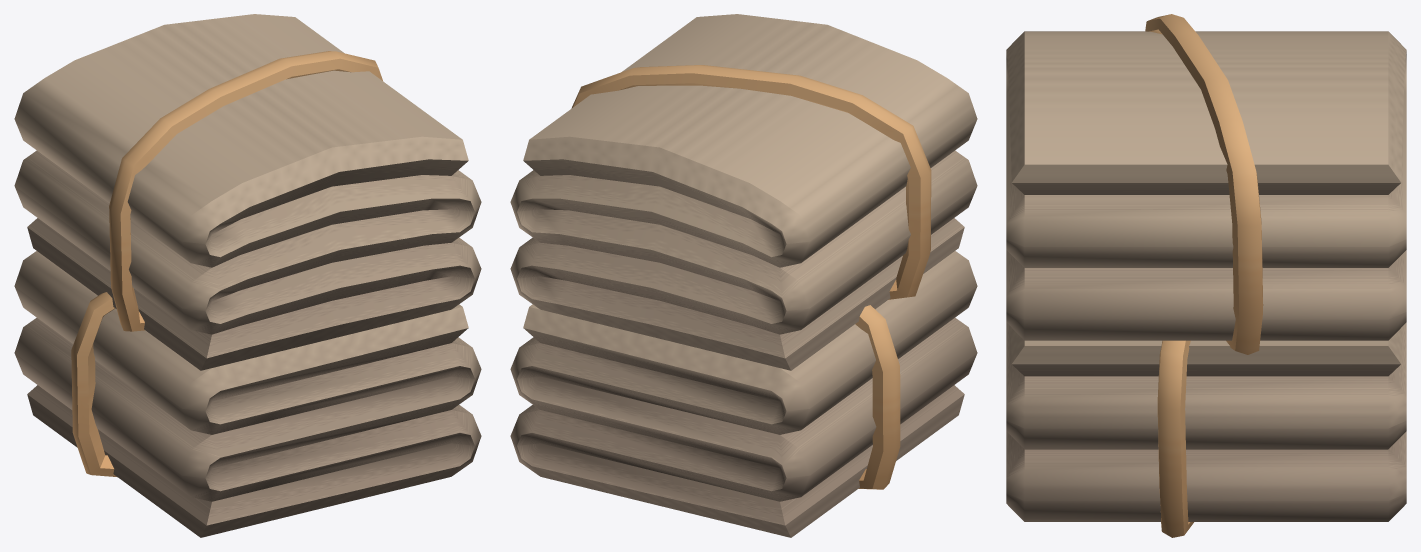
File: Textiles_B.gltf
3 renders of one model, left to right at view 1: azimuth 30°, elevation 25°; view 2: azimuth 150°, elevation 25°; view 3: azimuth 270°, elevation 25°, orthographic. The views are drawn at different scales.
Parts seen in each view (by area): view 1: Textiles_B; view 2: Textiles_B; view 3: Textiles_B.
Part boxes in pixels (<box>): Textiles_B: <box>14,14,481,537</box>; Textiles_B: <box>510,14,977,537</box>; Textiles_B: <box>1006,14,1406,537</box>.
Bounding box in the file's own units: 0.8196 × 0.9318 × 0.8.
Materials: 1 (1 with a texture image).
